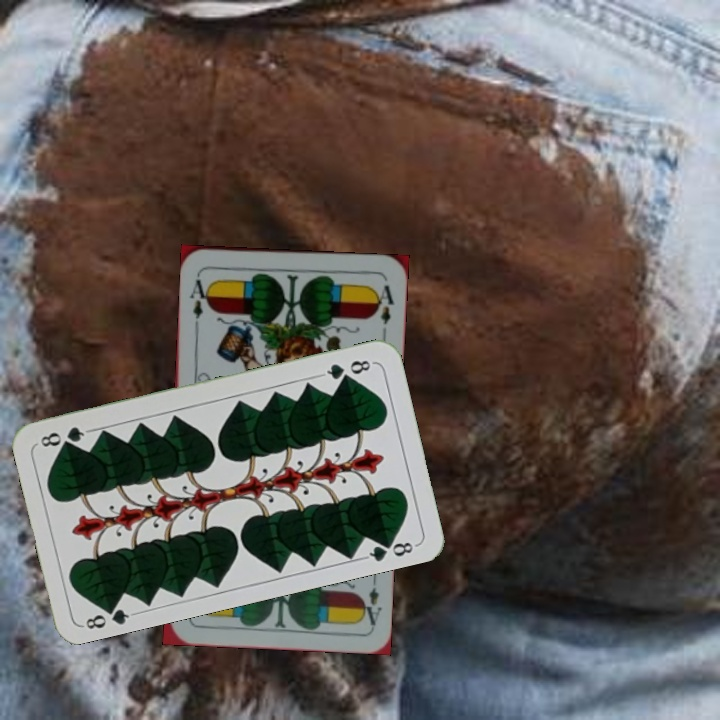EA: (357, 569, 384, 628), (185, 270, 213, 321)
G8: (79, 599, 138, 632), (318, 356, 376, 383)
